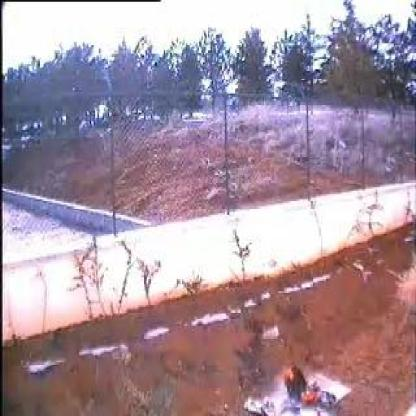foggia-v2-map80-epoch100 - v1 4323: (281, 366, 317, 406)
